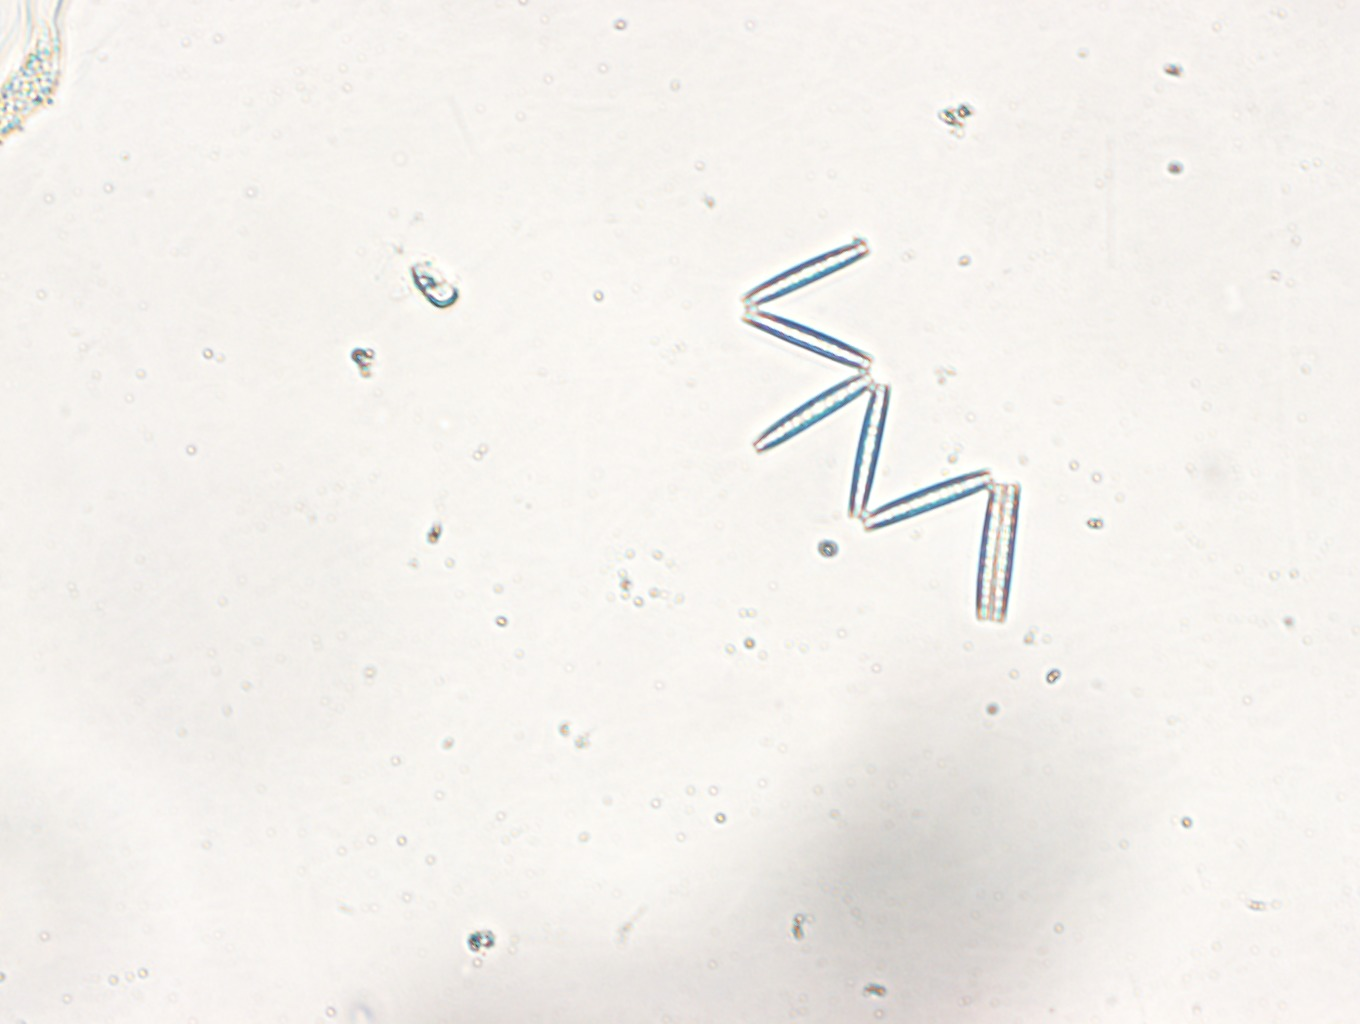thalassionema nitzschioides: (742, 239, 1020, 623)
